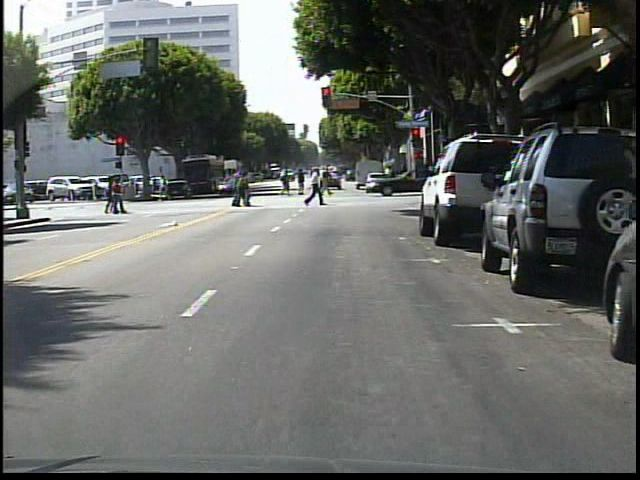person: (304, 166, 327, 212), (155, 171, 174, 201), (321, 167, 337, 196)
